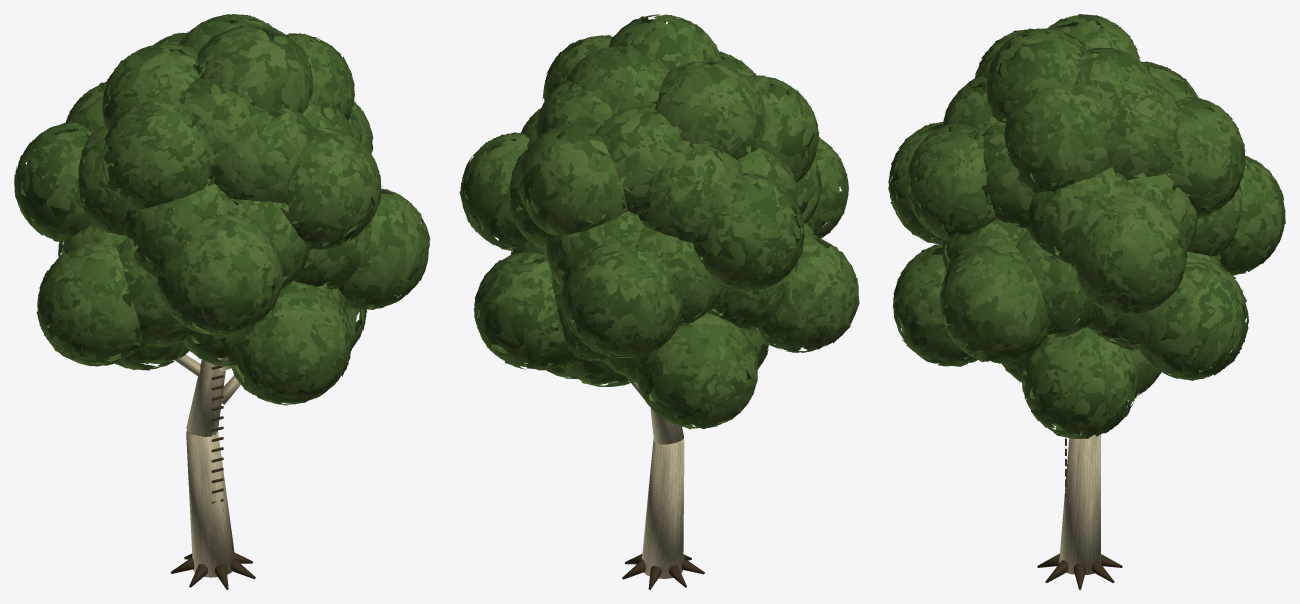
File: birch_tree.glb
3 renders of one model, left to right at view 1: azimuth 30°, elevation 25°; view 2: azimuth 150°, elevation 25°; view 3: azimuth 270°, elevation 25°, orthographic. The views are drawn at different scales.
Parts seen in each view (by area): view 1: Attached leaf clusters.002, Curving trunk.006, Leafy crown cluster.085, Leafy crown cluster.084, Leafy crown cluster.086, Root flare.014; view 2: Attached leaf clusters.002, Curving trunk.006, Leafy crown cluster.084, Leafy crown cluster.086, Leafy crown cluster.085, Root flare.014; view 3: Attached leaf clusters.002, Curving trunk.006, Leafy crown cluster.086, Leafy crown cluster.084, Leafy crown cluster.085, Root flare.014.
Boxes of the visible parts, <box> form: Attached leaf clusters.002: <box>14,14,430,405</box>; Curving trunk.006: <box>174,354,240,577</box>; Leafy crown cluster.085: <box>53,56,371,351</box>; Leafy crown cluster.084: <box>25,35,349,319</box>; Leafy crown cluster.086: <box>78,22,416,391</box>; Root flare.014: <box>171,357,255,589</box>; Attached leaf clusters.002: <box>459,14,859,429</box>; Curving trunk.006: <box>629,380,684,578</box>; Leafy crown cluster.084: <box>480,21,812,367</box>; Leafy crown cluster.086: <box>474,57,757,340</box>; Leafy crown cluster.085: <box>546,43,842,419</box>; Root flare.014: <box>622,554,704,589</box>; Attached leaf clusters.002: <box>888,14,1285,438</box>; Curving trunk.006: <box>1059,433,1100,574</box>; Leafy crown cluster.086: <box>917,20,1234,373</box>; Leafy crown cluster.084: <box>964,32,1250,430</box>; Leafy crown cluster.085: <box>897,91,1155,256</box>; Root flare.014: <box>1037,438,1122,589</box>.
Size of the model in its own units: 4.36 by 6.41 by 4.23.
Materials: 6 (2 with a texture image).
